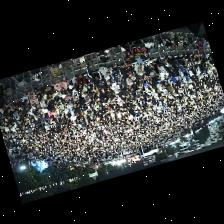person: (85, 60, 102, 83), (108, 76, 121, 94), (156, 59, 168, 78), (150, 69, 162, 87), (134, 55, 144, 74), (120, 63, 133, 77), (54, 80, 67, 93), (133, 69, 145, 83), (65, 77, 78, 89), (100, 66, 112, 79), (86, 77, 95, 94), (112, 69, 122, 84), (144, 59, 155, 72), (161, 57, 172, 70), (76, 74, 86, 88), (168, 56, 179, 68), (35, 86, 45, 99), (50, 97, 61, 108), (40, 96, 48, 111), (167, 73, 175, 87), (123, 73, 133, 84), (69, 97, 79, 108), (171, 71, 180, 83), (45, 86, 54, 98), (177, 55, 186, 67), (52, 88, 61, 100), (125, 86, 134, 98), (96, 80, 104, 93), (102, 75, 111, 86), (13, 98, 22, 109), (112, 64, 119, 78), (22, 92, 29, 106), (30, 96, 38, 108), (122, 79, 131, 89), (61, 96, 69, 107), (64, 87, 72, 98), (167, 82, 174, 94), (81, 84, 88, 96), (4, 103, 13, 112), (27, 89, 35, 99), (180, 64, 188, 74), (56, 103, 63, 114), (93, 86, 99, 98), (72, 89, 78, 100), (8, 99, 14, 110), (61, 93, 69, 101), (122, 42, 131, 49), (17, 105, 23, 115), (43, 93, 49, 103), (194, 53, 200, 62), (36, 102, 41, 111), (200, 53, 207, 59)
